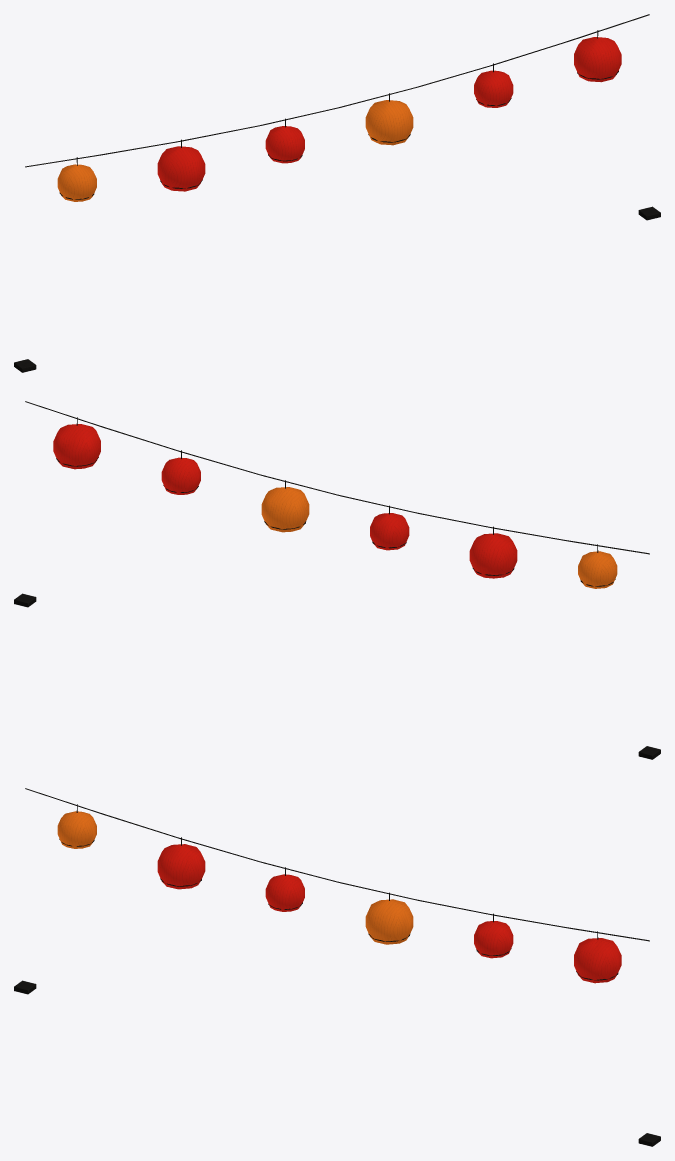
Rendered from lantern-string-lod.glb.
3 renders of one model, top to bottom at view 1: azimuth 30°, elevation 25°; view 2: azimuth 150°, elevation 25°; view 3: azimuth 330°, elevation 25°, orthographic.
Parts seen in each view (by area): view 1: lantern-string-neon, lantern-string-amber.001, lantern-string-paint.001, lantern-string-paint, lantern-string-amber, lantern-string-neon.001, lantern-string-dark.002; view 2: lantern-string-neon, lantern-string-amber.001, lantern-string-paint.001, lantern-string-amber, lantern-string-paint, lantern-string-neon.001, lantern-string-dark.002; view 3: lantern-string-neon, lantern-string-amber.001, lantern-string-paint.001, lantern-string-amber, lantern-string-paint, lantern-string-neon.001, lantern-string-dark.002.
Boxes of the visible parts, x1,y1,x2,y2 form: lantern-string-neon: (157,146,205,191); lantern-string-amber.001: (365,100,413,145); lantern-string-paint.001: (574,37,621,82); lantern-string-paint: (265,126,304,163); lantern-string-amber: (57,164,96,201); lantern-string-neon.001: (474,70,513,107); lantern-string-dark.002: (25,14,649,167); lantern-string-neon: (469,533,517,578); lantern-string-amber.001: (261,487,309,532); lantern-string-paint.001: (53,424,100,469); lantern-string-amber: (578,551,617,588); lantern-string-paint: (370,513,409,550); lantern-string-neon.001: (161,457,200,494); lantern-string-dark.002: (25,401,649,554); lantern-string-neon: (157,844,205,889); lantern-string-amber.001: (365,899,413,944); lantern-string-paint.001: (574,938,621,983); lantern-string-amber: (57,811,96,848); lantern-string-paint: (265,874,304,911); lantern-string-neon.001: (474,921,513,958); lantern-string-dark.002: (25,788,649,941).
Bounding box in the file's own units: 7.71 × 2.33 × 0.4982.
3 materials, 3 textured.
